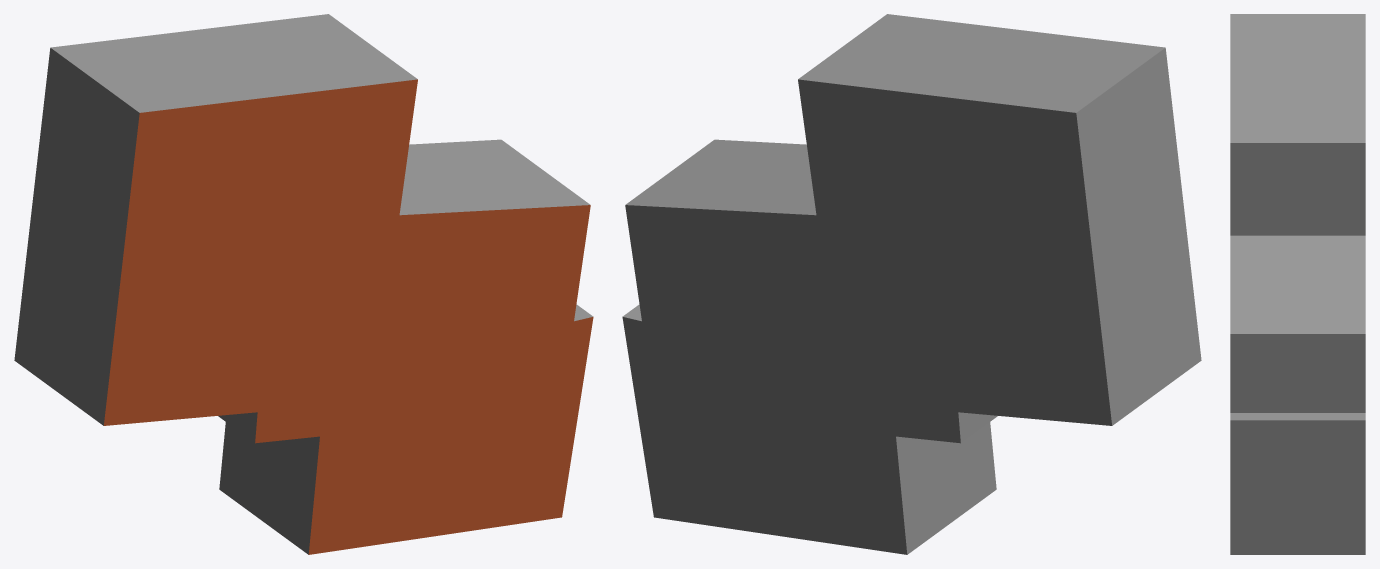
Rendered from construction_3065_assumed_A_Casa_h6m.obj.
3 renders of one model, left to right at view 1: azimuth 30°, elevation 25°; view 2: azimuth 150°, elevation 25°; view 3: azimuth 270°, elevation 25°, orthographic. The views are drawn at different scales.
Parts seen in each view (by area): view 1: construction_3065_assumed_A_Casa; view 2: construction_3065_assumed_A_Casa; view 3: construction_3065_assumed_A_Casa.
Boxes of the visible parts, <box> form: construction_3065_assumed_A_Casa: <box>14,14,593,554</box>; construction_3065_assumed_A_Casa: <box>622,14,1201,554</box>; construction_3065_assumed_A_Casa: <box>1230,14,1365,554</box>.
Bounding box in the file's own units: 18.99 × 18.8 × 6.
